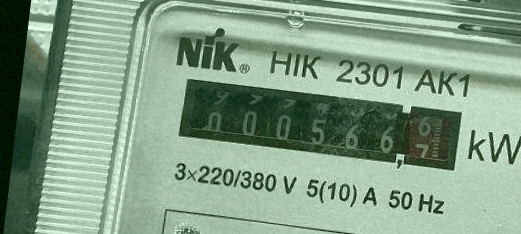0: (272, 111, 293, 142), (238, 106, 258, 137), (202, 107, 224, 132)
5: (307, 115, 328, 146)
6: (375, 122, 398, 155), (339, 120, 361, 150), (415, 113, 434, 140)
7: (412, 141, 430, 161)
9: (209, 85, 230, 107)
screen: (167, 69, 467, 179)
